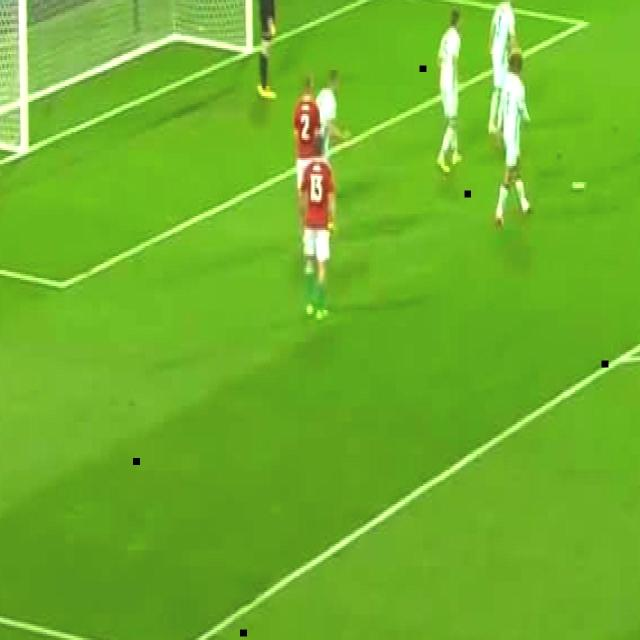player-white: (493, 51, 531, 228), (300, 138, 334, 322), (311, 68, 344, 235), (293, 70, 321, 250), (434, 8, 464, 174), (488, 0, 514, 134), (254, 0, 276, 100)
